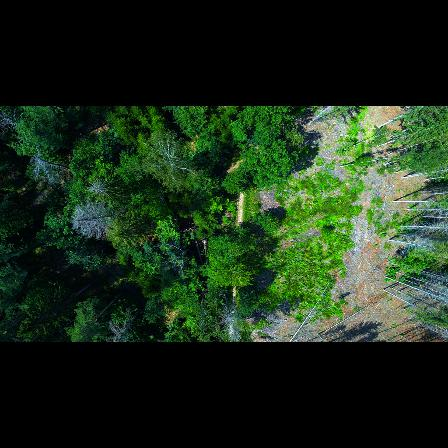Dead: (143, 133, 199, 190), (70, 202, 120, 242), (24, 146, 69, 182), (107, 302, 139, 342), (220, 294, 245, 342), (83, 174, 116, 198), (0, 105, 24, 134)
